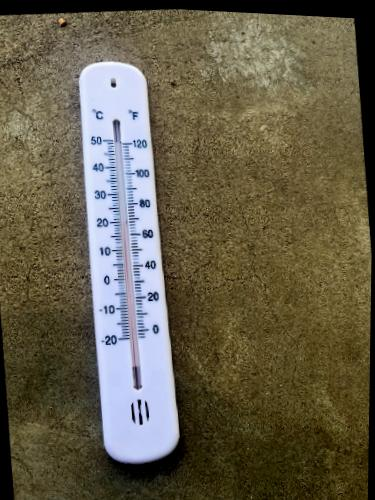thermo: (76, 61, 181, 465)
